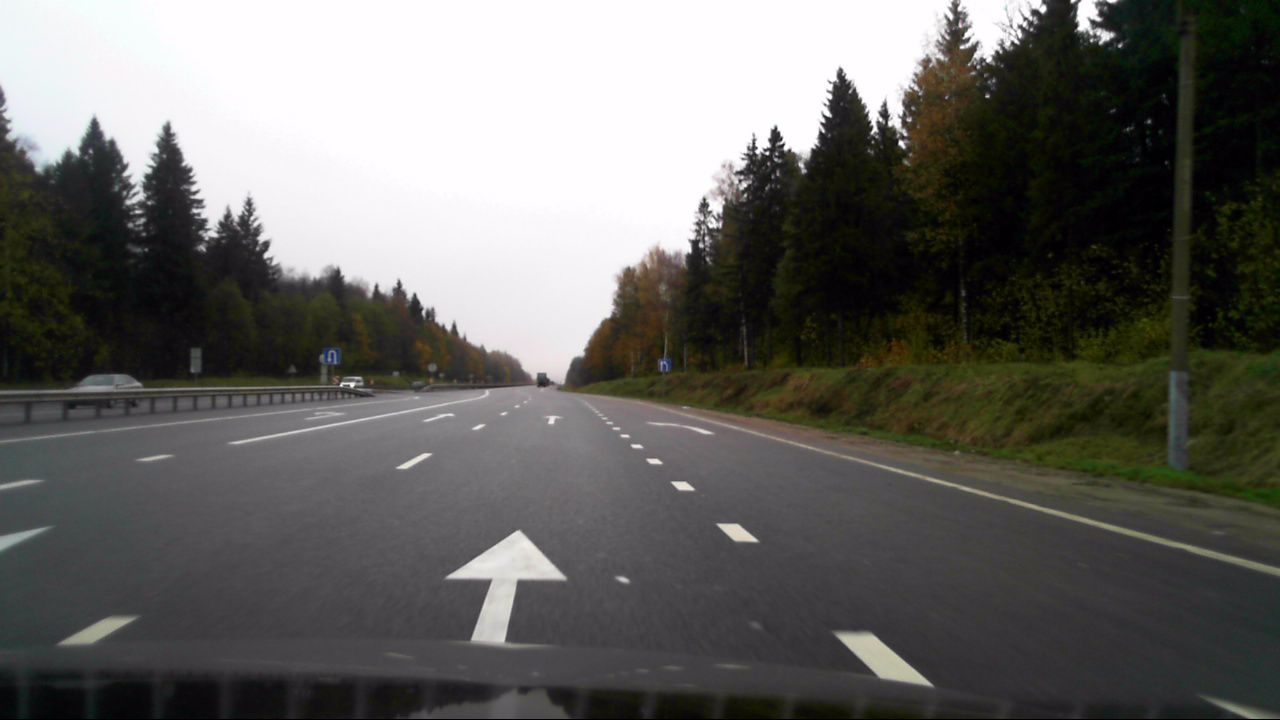U-turn: (324, 349, 340, 364)
